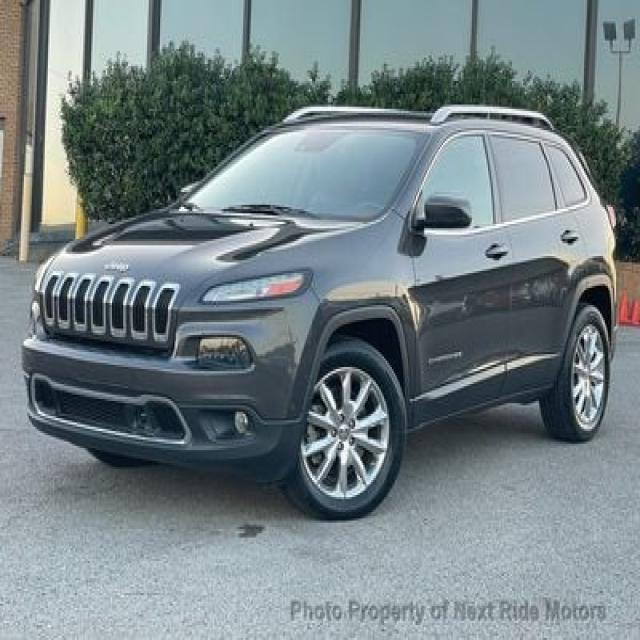Zeep: (22, 94, 626, 525)
